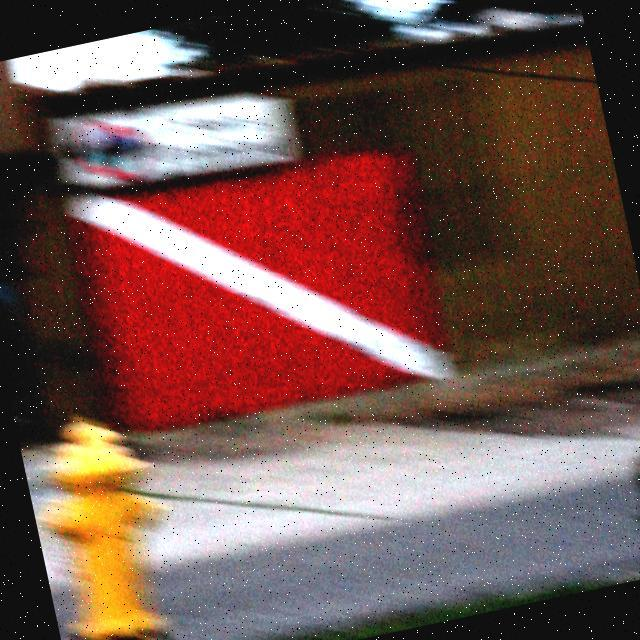fire_hydrant: (19, 408, 211, 640)
